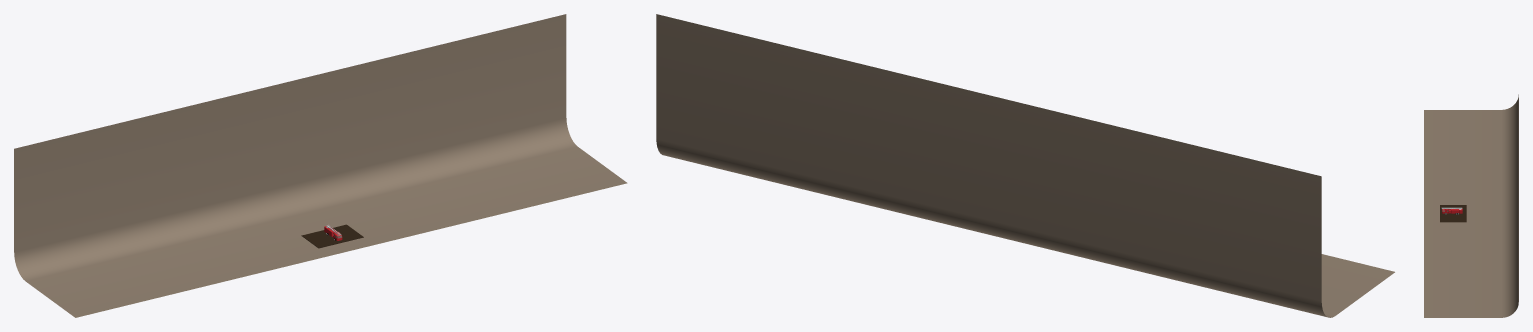
Rendered from cool-scene-01.glb.
The picture shows the model from 3 angles, left to right: view 1: azimuth 30°, elevation 25°; view 2: azimuth 150°, elevation 25°; view 3: azimuth 270°, elevation 25°; orthographic projection. The views are drawn at different scales.
Visible parts, largest first — view 1: BG, Cube; view 2: BG; view 3: BG, Cube.
Part boxes in pixels (x1,y1,x2,y2): BG: (14, 14, 627, 317); Cube: (301, 224, 363, 248); BG: (656, 14, 1394, 317); BG: (1424, 94, 1518, 317); Cube: (1440, 205, 1466, 222).
Size of the model in its own units: 153 by 33.07 by 29.5.
